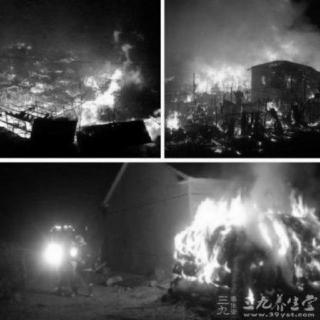Fire: (165, 165, 318, 303)
